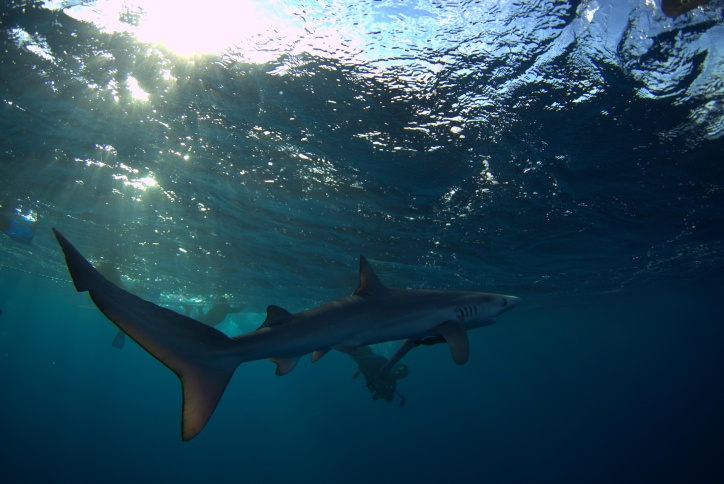Azul: (47, 209, 550, 441)
